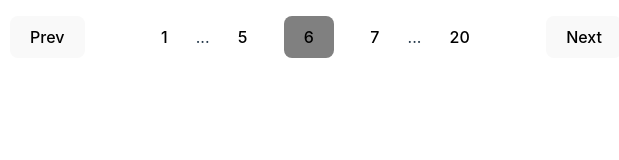
Test: Pagination › When clicking on the first page button › should button be disabled
Click the button "1".
click(164, 37)  # box x1=141 y1=16 x2=188 y2=58
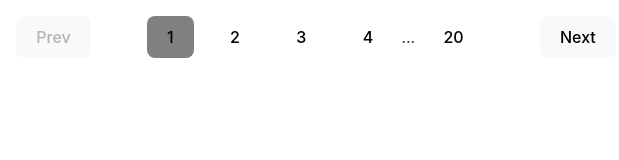
Check: the button with test id "prev-page-button" is disabled, box x1=16 y1=16 x2=91 y2=58
